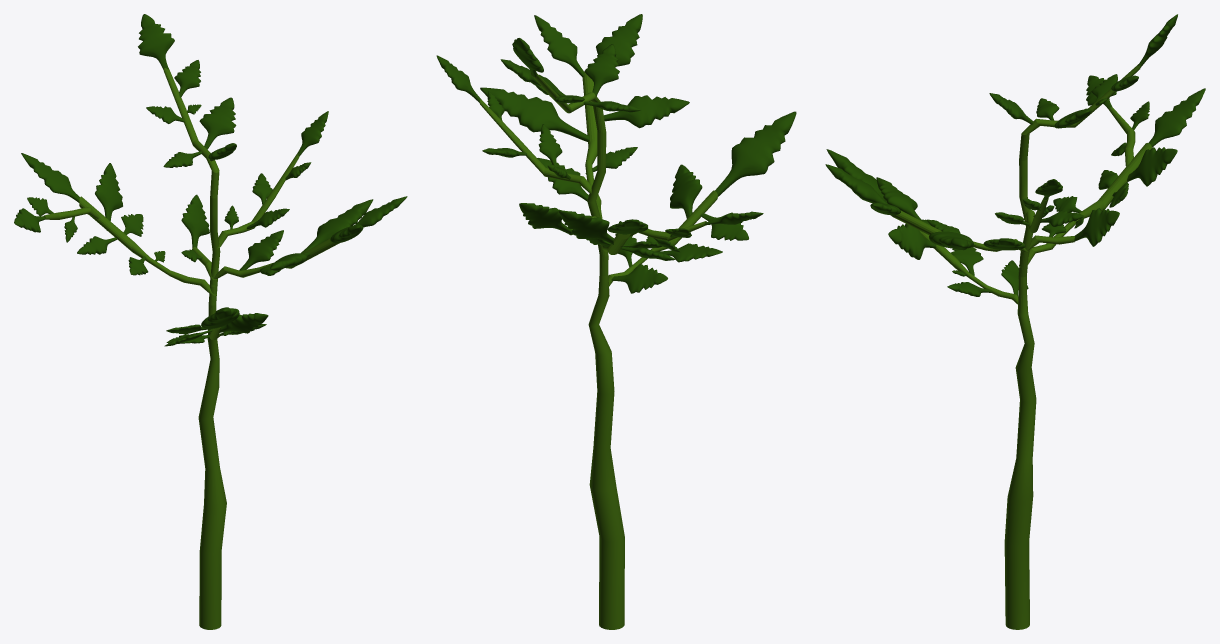
Rendered from tomato_tree.fbx.
3 views of the same model, side by side, from view 1: azimuth 30°, elevation 25°; view 2: azimuth 150°, elevation 25°; view 3: azimuth 270°, elevation 25° (orthographic). The views are drawn at different scales.
Parts seen in each view (by area): view 1: pCube43; view 2: pCube43; view 3: pCube43.
Boxes of the visible parts, box(x1,y1,x2,y2) form: pCube43: box(14, 14, 407, 629); pCube43: box(436, 14, 796, 629); pCube43: box(825, 14, 1205, 629).
Bounding box in the file's own units: 4.82 × 8.5 × 4.77.
